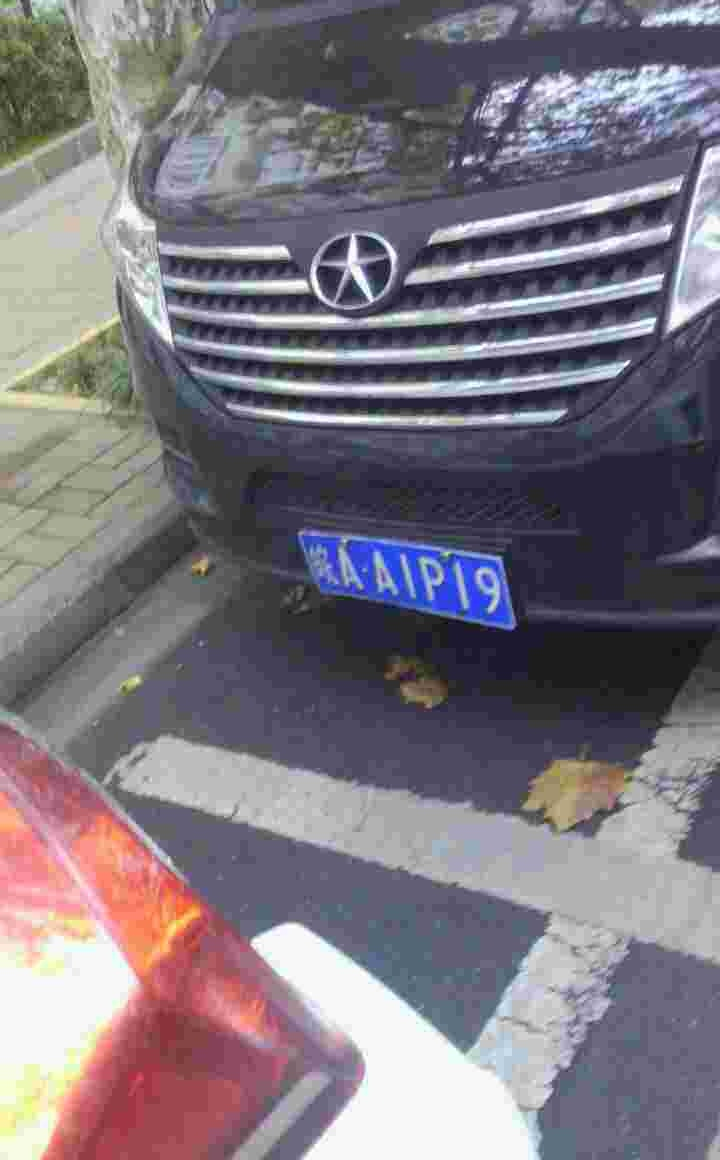plate: (294, 524, 521, 627)
